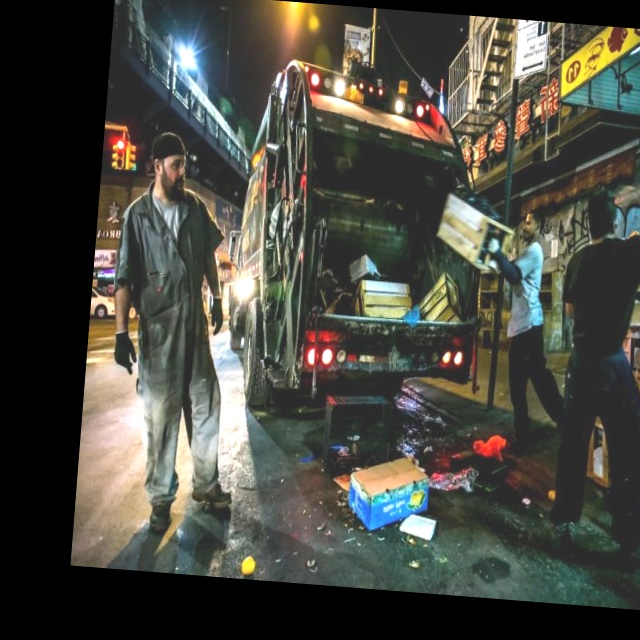Sin_Casco_Mascarrilla: (151, 131, 192, 191)
Sin_Chaleco: (129, 188, 206, 361)
